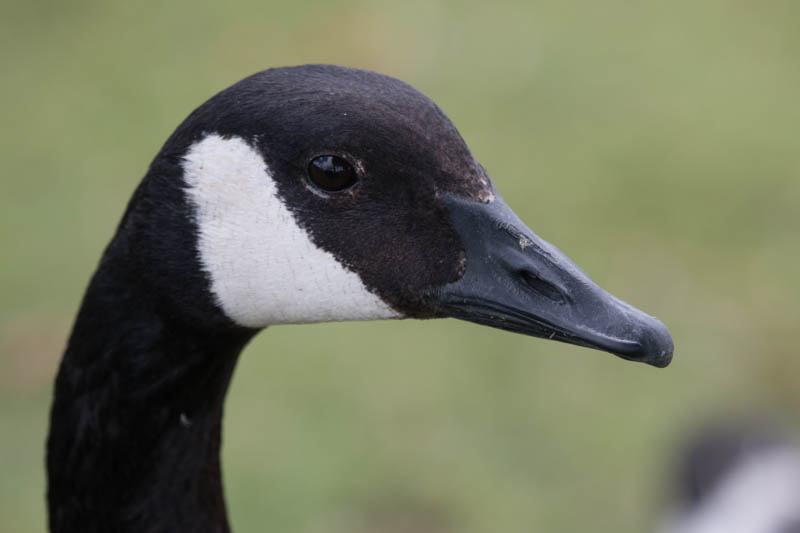goose-head: (99, 62, 672, 370)
